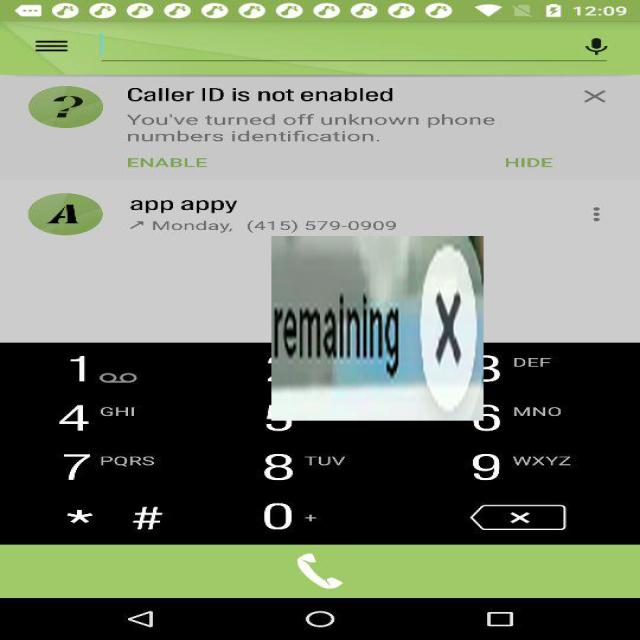misdirection: (272, 236, 484, 421)
